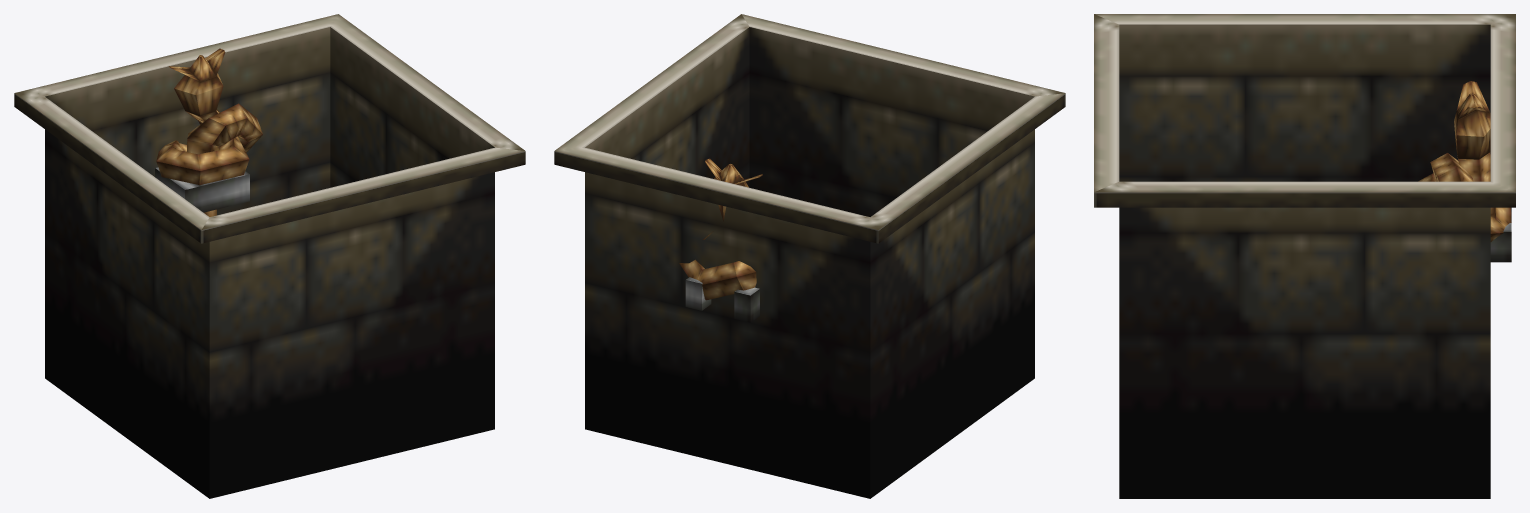
Rendered from Poly_Hole_Rope_01_Down.obj.
The picture shows the model from 3 angles, left to right: view 1: azimuth 30°, elevation 25°; view 2: azimuth 150°, elevation 25°; view 3: azimuth 270°, elevation 25°; orthographic projection. The views are drawn at different scales.
Parts seen in each view (by area): view 1: Cube.002, Cube_Cube.002, Cube.001_Cube.002; view 2: Cube.002, Cube_Cube.002, Cube.001_Cube.002; view 3: Cube.002, Cube_Cube.002, Cube.001_Cube.002.
Boxes of the visible parts, bbox=[...] form: Cube.002: bbox=[14, 14, 525, 498]; Cube_Cube.002: bbox=[156, 48, 262, 216]; Cube.001_Cube.002: bbox=[155, 167, 249, 212]; Cube.002: bbox=[554, 14, 1065, 498]; Cube_Cube.002: bbox=[679, 158, 762, 300]; Cube.001_Cube.002: bbox=[685, 277, 759, 322]; Cube.002: bbox=[1094, 14, 1515, 498]; Cube_Cube.002: bbox=[1418, 81, 1511, 241]; Cube.001_Cube.002: bbox=[1490, 207, 1511, 262].
Size of the model in its own units: 1 by 0.8754 by 1.
Materials: 1 (1 with a texture image).
